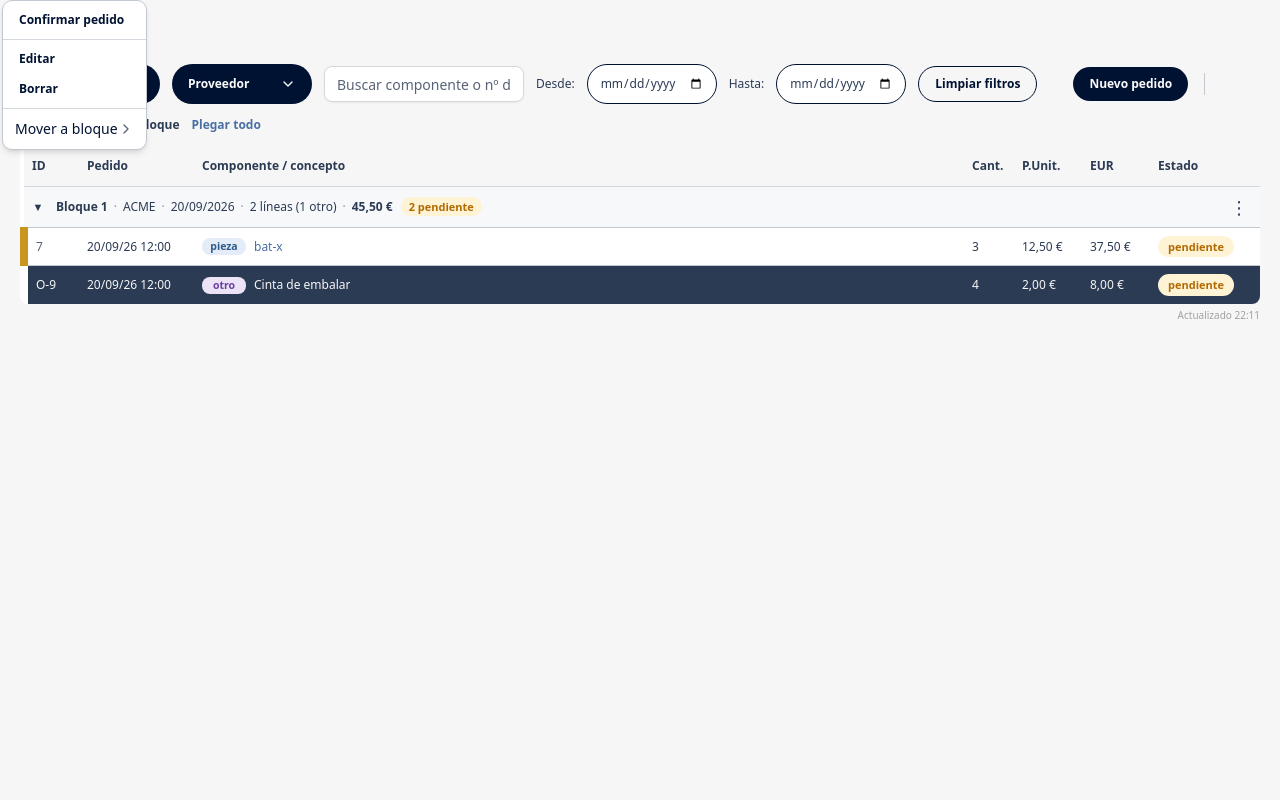
it: PedidosPage: "Editar" abre el editor del tipo de la línea (0.9.15: piezas y otros en la misma lista) › otro: "Editar" → el editor de otros («Editar pedido #O-9», con "Concepto:"); Cancelar lo cierra sin escribir
Click the menu item "Editar" at coordinates (37, 58), box [19,50,55,67]
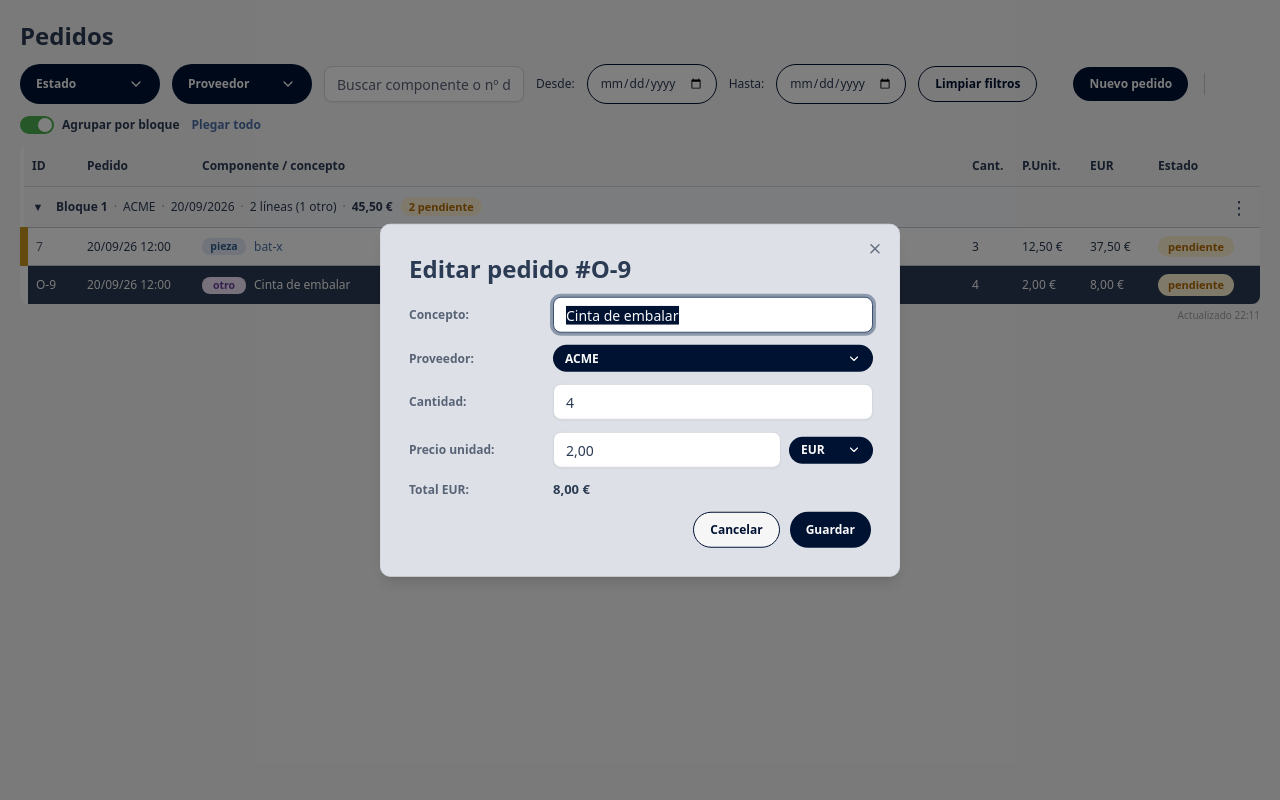
Check: the dialog "Editar pedido #O-9" is shown, box [380,224,900,576]
Check: the field labelled "Concepto:" holds "Cinta de embalar", box [553,297,873,333]
Click the button "Cancelar" at coordinates (736, 529), box [693,511,780,547]
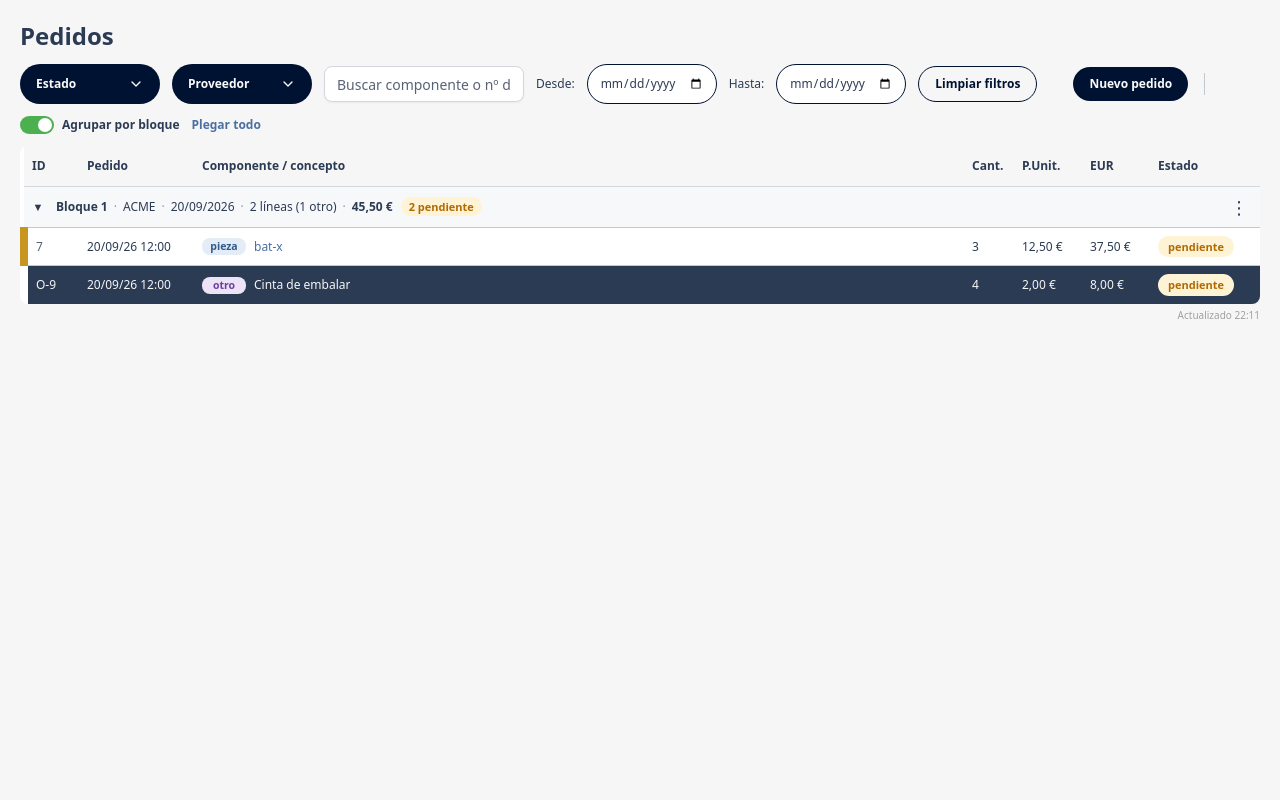
Check: the dialog is gone
